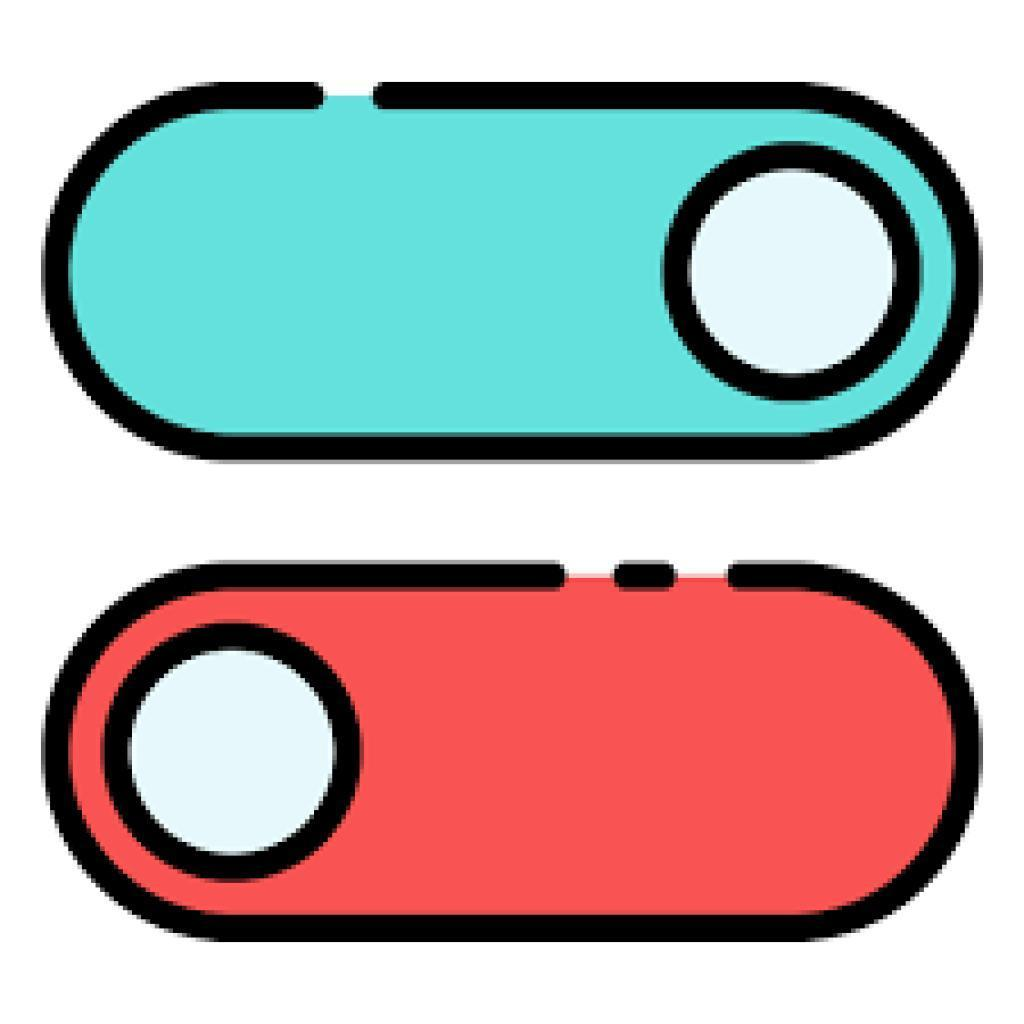switch: (28, 542, 990, 959), (35, 61, 992, 475)
